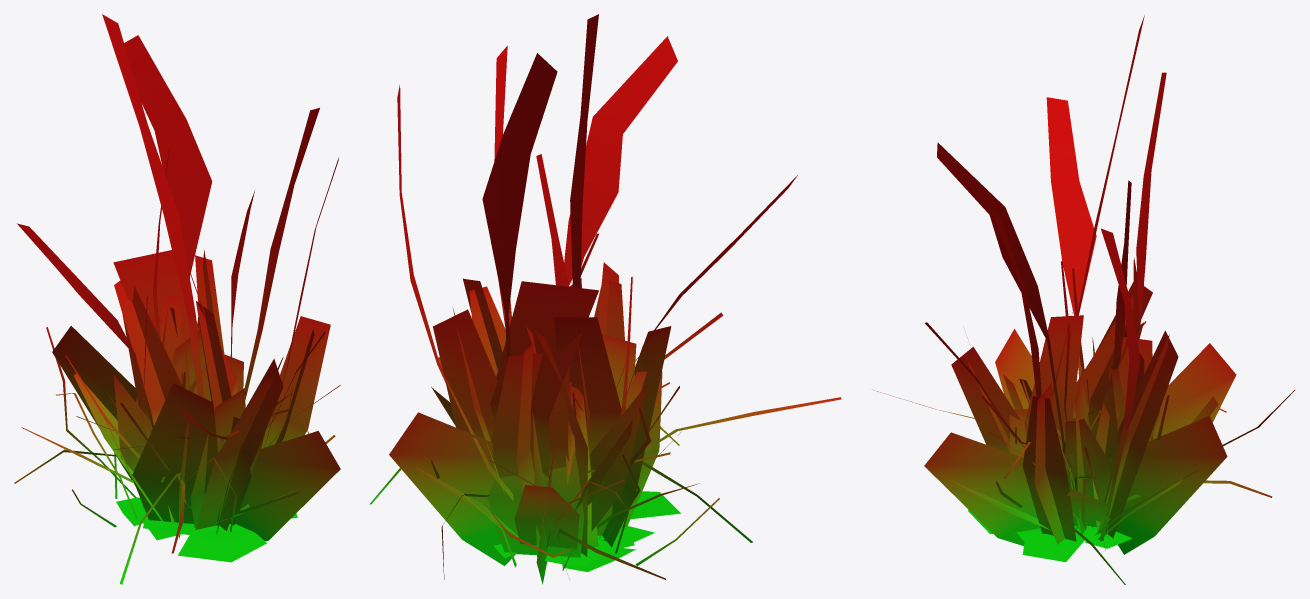
File: Var1_LOD2.fbx
3 renders of one model, left to right at view 1: azimuth 30°, elevation 25°; view 2: azimuth 150°, elevation 25°; view 3: azimuth 270°, elevation 25°, orthographic. The views are drawn at different scales.
Parts seen in each view (by area): view 1: _c714_Var1_LOD2; view 2: _c714_Var1_LOD2; view 3: _c714_Var1_LOD2.
Part boxes in pixels (<box>): _c714_Var1_LOD2: <box>14,14,340,584</box>; _c714_Var1_LOD2: <box>369,14,841,584</box>; _c714_Var1_LOD2: <box>872,15,1294,584</box>.
Bounding box in the file's own units: 42.26 × 62.17 × 47.8.
